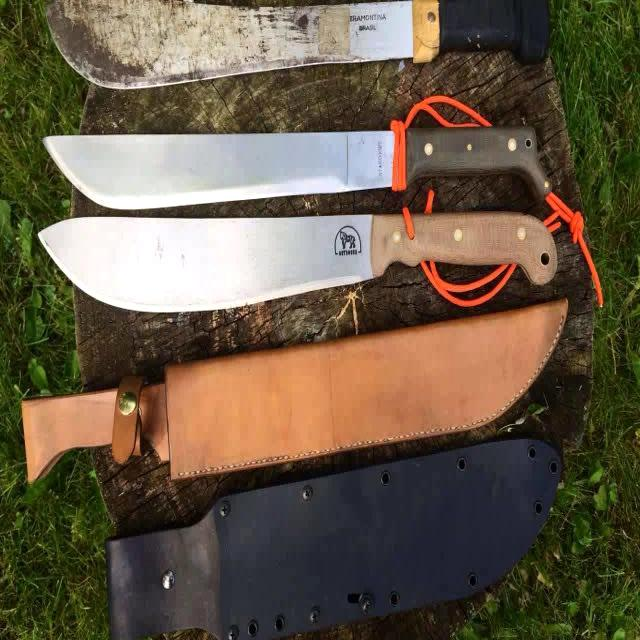long knife: (32, 8, 616, 100), (29, 220, 568, 316), (36, 136, 568, 212)
